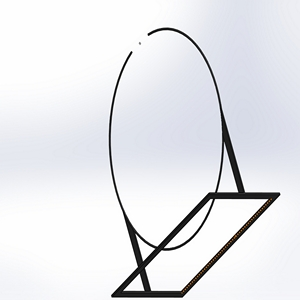circle: (106, 25, 281, 298)
